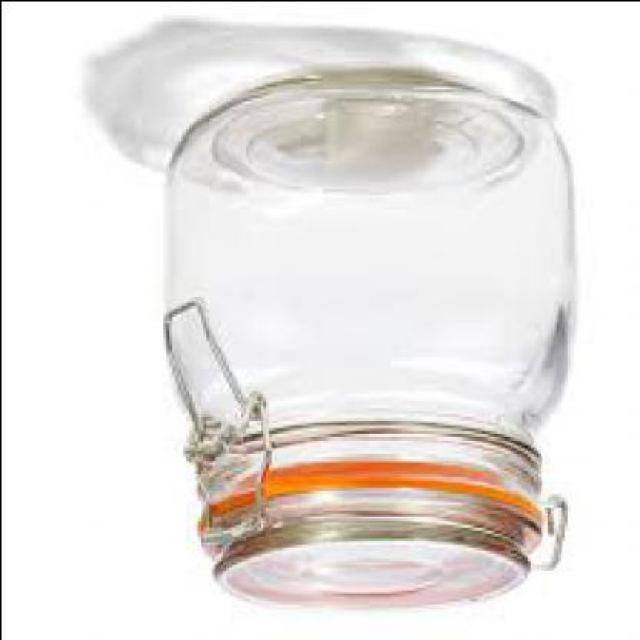GLASS: (168, 74, 574, 606)
METAL: (165, 307, 262, 470), (546, 504, 574, 574)
